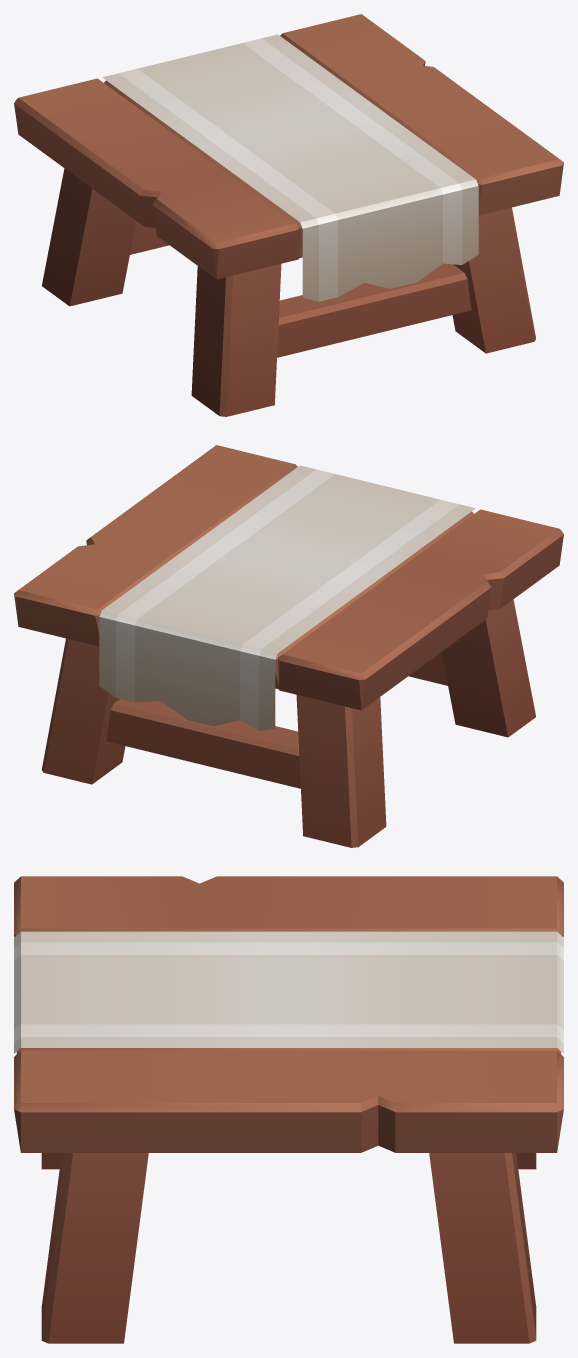
The model's file is table_medium_tablecloth.gltf.
3 renders of one model, top to bottom at view 1: azimuth 30°, elevation 25°; view 2: azimuth 150°, elevation 25°; view 3: azimuth 270°, elevation 25°, orthographic. The views are drawn at different scales.
Parts seen in each view (by area): view 1: table_medium_tablecloth; view 2: table_medium_tablecloth; view 3: table_medium_tablecloth.
Boxes of the visible parts, bbox=[...] form: table_medium_tablecloth: bbox=[14, 14, 563, 416]; table_medium_tablecloth: bbox=[14, 445, 563, 847]; table_medium_tablecloth: bbox=[14, 876, 563, 1343].
Bounding box in the file's own units: 2 × 1 × 2.
Materials: 1 (1 with a texture image).
